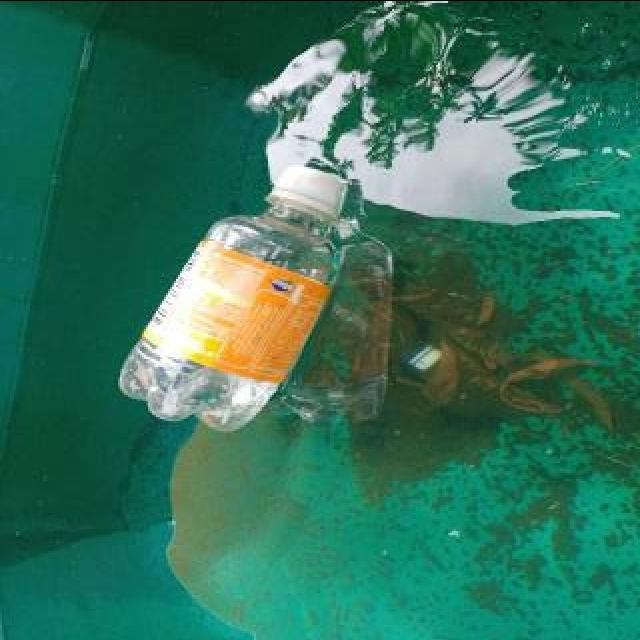Bottle: (112, 158, 358, 440)
